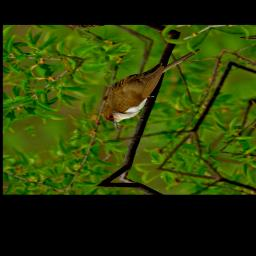Cuckoo: (81, 48, 230, 132)
